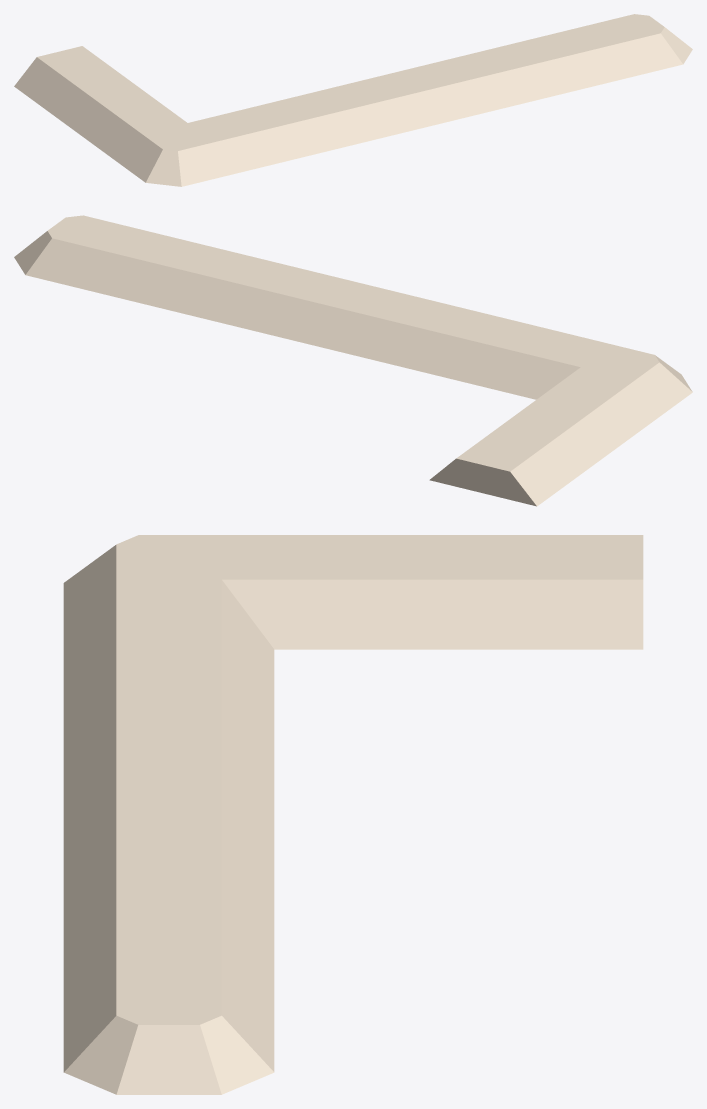
Rendered from Puzzle_Closed_Conduit_Control_Connector.glb.
3 views of the same model, one above another, from view 1: azimuth 30°, elevation 25°; view 2: azimuth 150°, elevation 25°; view 3: azimuth 270°, elevation 25° (orthographic). The views are drawn at different scales.
Visible parts, largest first — view 1: Puzzle_Closed_Conduit_Control_Connector; view 2: Puzzle_Closed_Conduit_Control_Connector; view 3: Puzzle_Closed_Conduit_Control_Connector.
Boxes of the visible parts, x1,y1,x2,y2 form: Puzzle_Closed_Conduit_Control_Connector: (14,14,692,186); Puzzle_Closed_Conduit_Control_Connector: (14,215,692,506); Puzzle_Closed_Conduit_Control_Connector: (63,535,643,1094).
Bounding box in the file's own units: 0.6 × 0.025 × 0.275.
